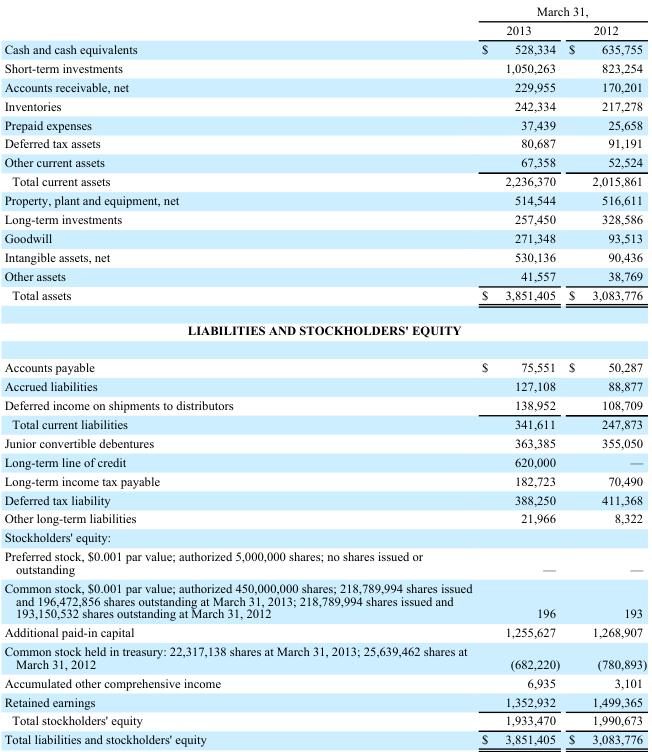table: (3, 3, 646, 746)
table column: (3, 3, 476, 746), (476, 3, 563, 746), (563, 3, 646, 746)
table column header: (3, 3, 646, 39)
table projected row header: (3, 312, 646, 348), (3, 527, 646, 546)
table row: (3, 578, 646, 622), (3, 312, 646, 348), (3, 546, 646, 578), (3, 641, 646, 672), (3, 348, 646, 376), (3, 285, 646, 312), (3, 20, 646, 39), (3, 57, 646, 76), (3, 76, 646, 95), (3, 95, 646, 114), (3, 114, 646, 133), (3, 133, 646, 152), (3, 152, 646, 171), (3, 171, 646, 190), (3, 190, 646, 209), (3, 209, 646, 228), (3, 228, 646, 247), (3, 247, 646, 266), (3, 266, 646, 285), (3, 376, 646, 395), (3, 395, 646, 414), (3, 432, 646, 451), (3, 451, 646, 470), (3, 470, 646, 489), (3, 489, 646, 508), (3, 508, 646, 527), (3, 527, 646, 546), (3, 622, 646, 641), (3, 672, 646, 691), (3, 691, 646, 710), (3, 710, 646, 729), (3, 39, 646, 57), (3, 414, 646, 432), (3, 3, 646, 20), (3, 729, 646, 746)
table spanning cell: (476, 3, 646, 20)
